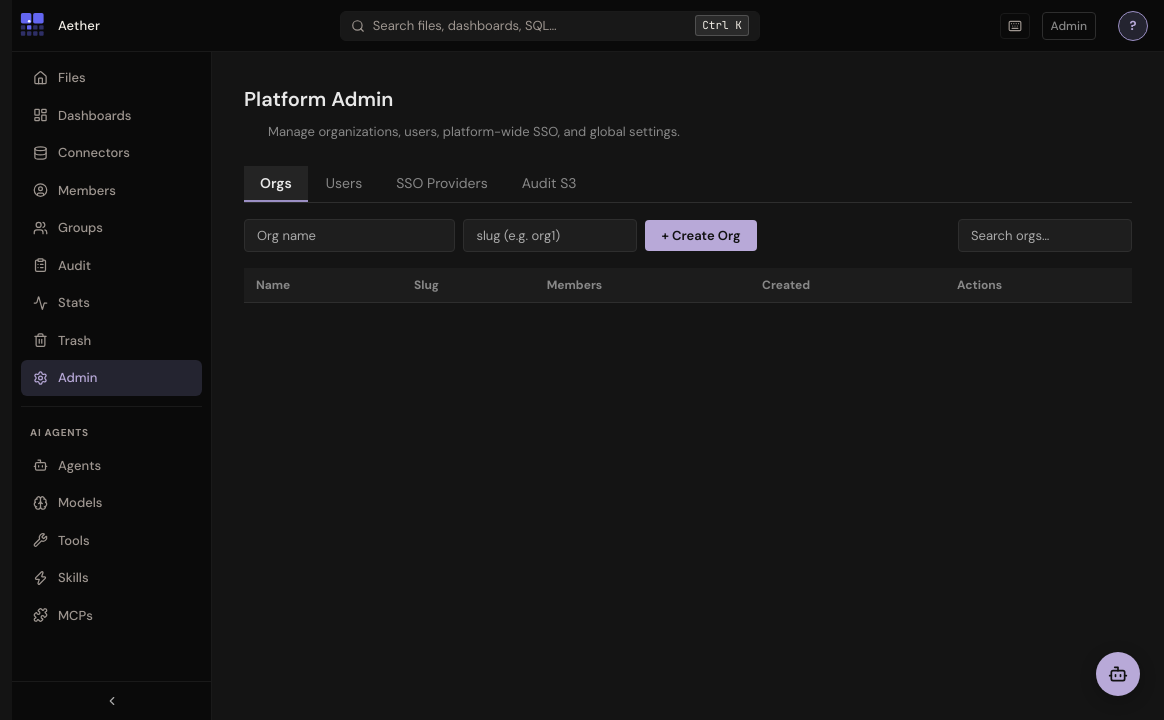
shows users list
Step 1. Click the tab "Users" → click(344, 184), box left=310, top=166, right=378, bottom=202
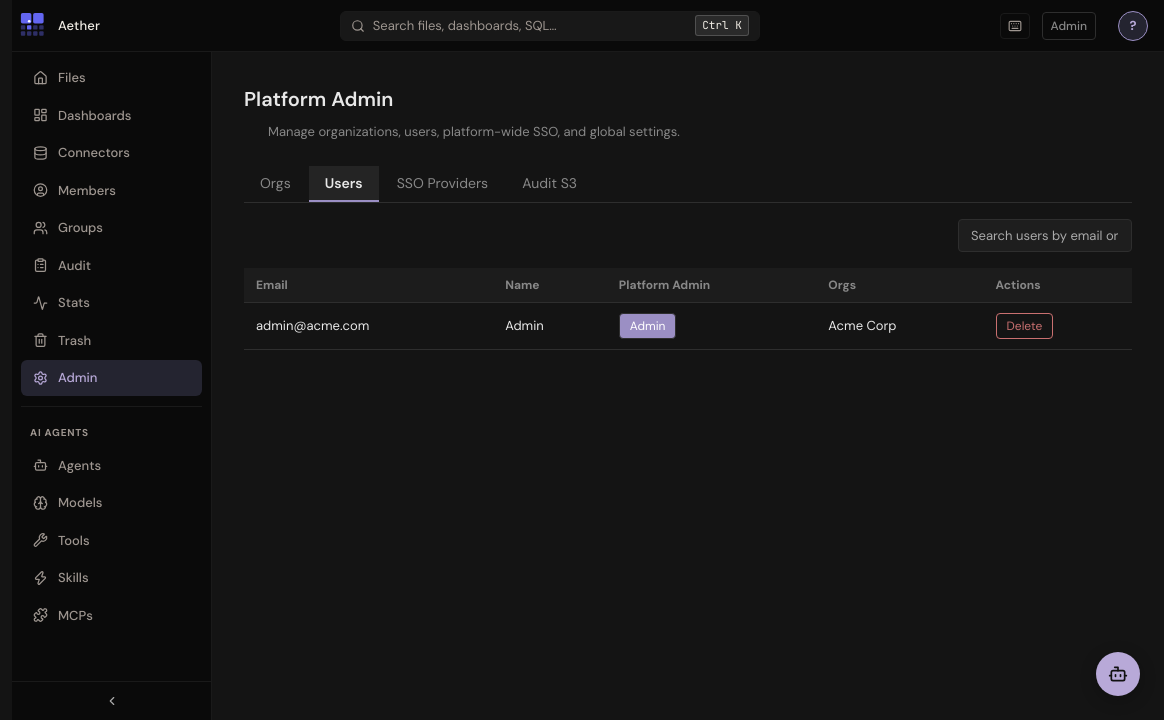
Expected: the text "admin@acme.com" is shown, left=244, top=302, right=493, bottom=349
